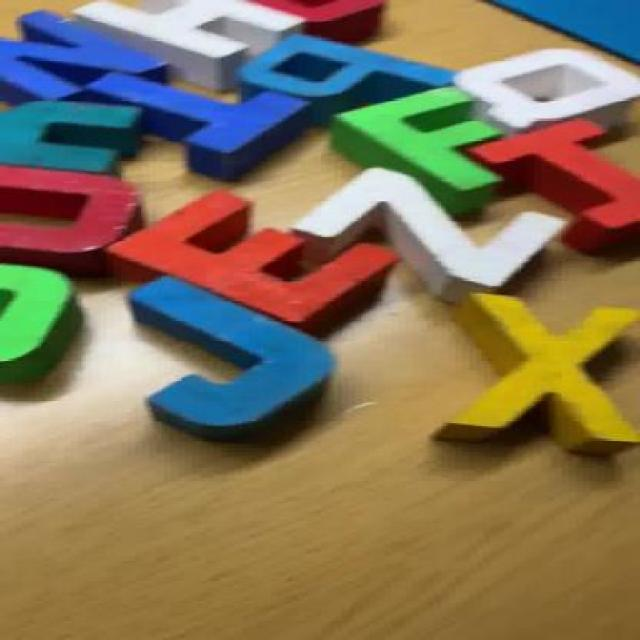E: (87, 184, 402, 338)
F: (328, 82, 507, 207)
J: (111, 263, 374, 460)
N: (0, 15, 177, 116)
Q: (437, 38, 635, 138)
X: (426, 293, 640, 450)
Z: (261, 156, 585, 319)
